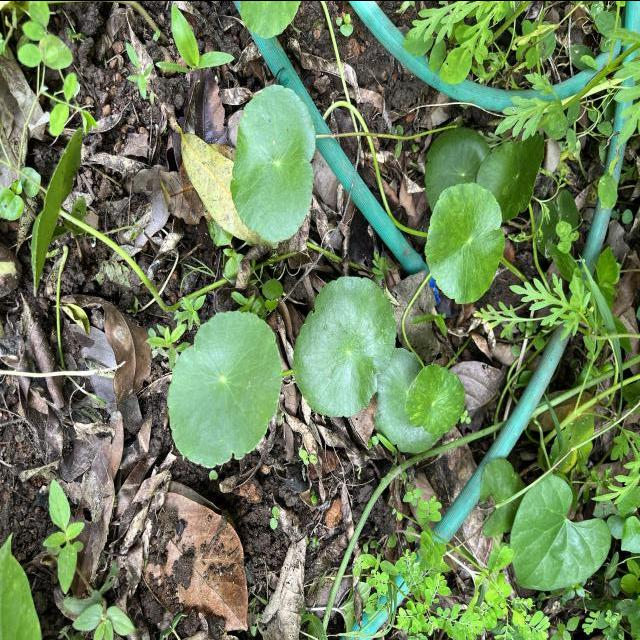Bacopa monnieri: (164, 306, 286, 470), (290, 273, 399, 419), (228, 81, 320, 244), (422, 178, 506, 306), (402, 359, 468, 436)
